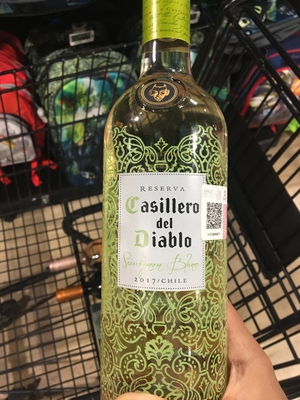casillero del diablo sauvignon blanc: (91, 4, 237, 400)
